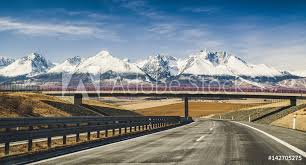strada: (134, 122, 306, 162)
